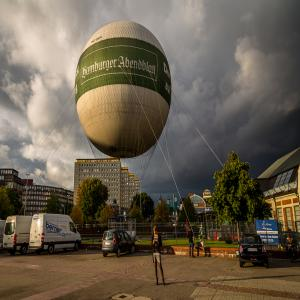Vehicle-registration-plate: (250, 249, 258, 253), (30, 244, 35, 247), (106, 243, 111, 246), (4, 246, 8, 249)
